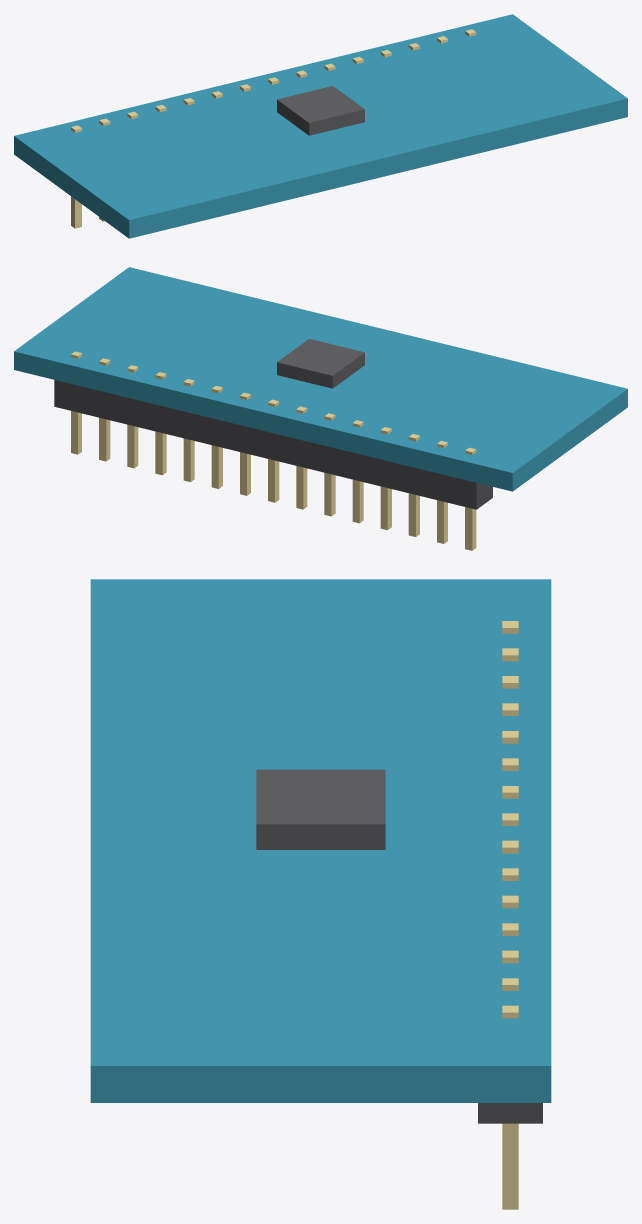
Rendered from arduino-nano.glb.
3 views of the same model, one above another, from view 1: azimuth 30°, elevation 25°; view 2: azimuth 150°, elevation 25°; view 3: azimuth 270°, elevation 25° (orthographic). The views are drawn at different scales.
Visible parts, largest first — view 1: arduino-nano-pcb, arduino-nano-ic, arduino-nano-pins; view 2: arduino-nano-pcb, arduino-nano-plastic, arduino-nano-pins, arduino-nano-ic; view 3: arduino-nano-pcb, arduino-nano-ic, arduino-nano-pins, arduino-nano-plastic.
Part boxes in pixels (x1,y1,x2,y2): arduino-nano-pcb: (14,14,627,238); arduino-nano-ic: (277,86,364,135); arduino-nano-pins: (71,29,476,228); arduino-nano-pcb: (14,267,627,491); arduino-nano-plastic: (54,380,492,509); arduino-nano-pins: (71,351,476,550); arduino-nano-ic: (277,338,364,388); arduino-nano-pcb: (90,579,551,1102); arduino-nano-ic: (256,769,385,849); arduino-nano-pins: (502,621,518,1209); arduino-nano-plastic: (478,1103,542,1123).
Size of the model in its own units: 0.045 by 0.00935 by 0.018.
